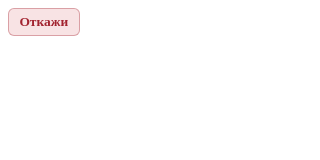
Test case: ConfirmButton › goes back on No and on Escape
This screenshot has width=320, height=160.
Click the button "Откажи" at [44, 22], box [8, 8, 80, 36]
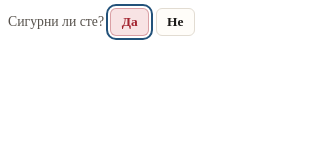
Click the button "Не" at [175, 22], box [156, 8, 195, 36]
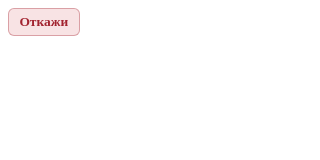
Expected: the button "Откажи" is shown
Click the button "Откажи" at [44, 22], box [8, 8, 80, 36]
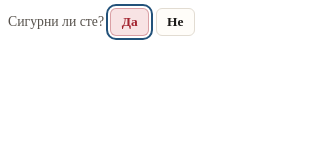
Press Escape
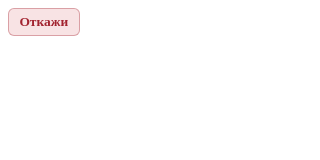
Expected: the button "Откажи" is shown, [8, 8, 80, 36]
